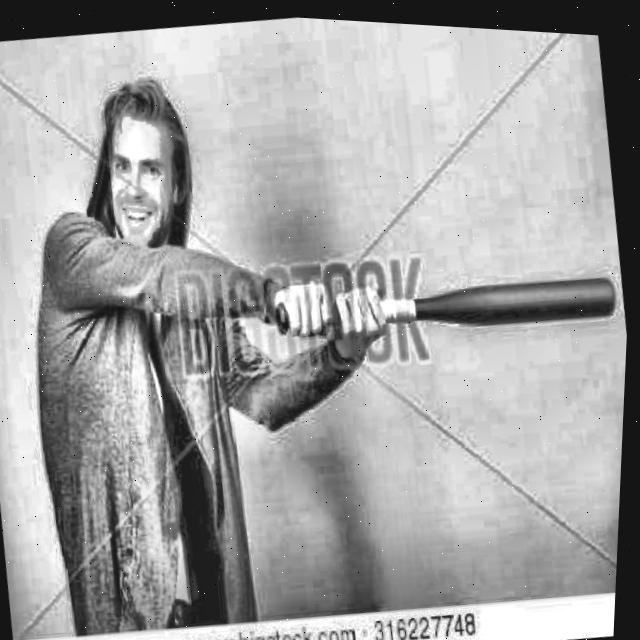tongkat pemukul: (264, 268, 618, 339)
